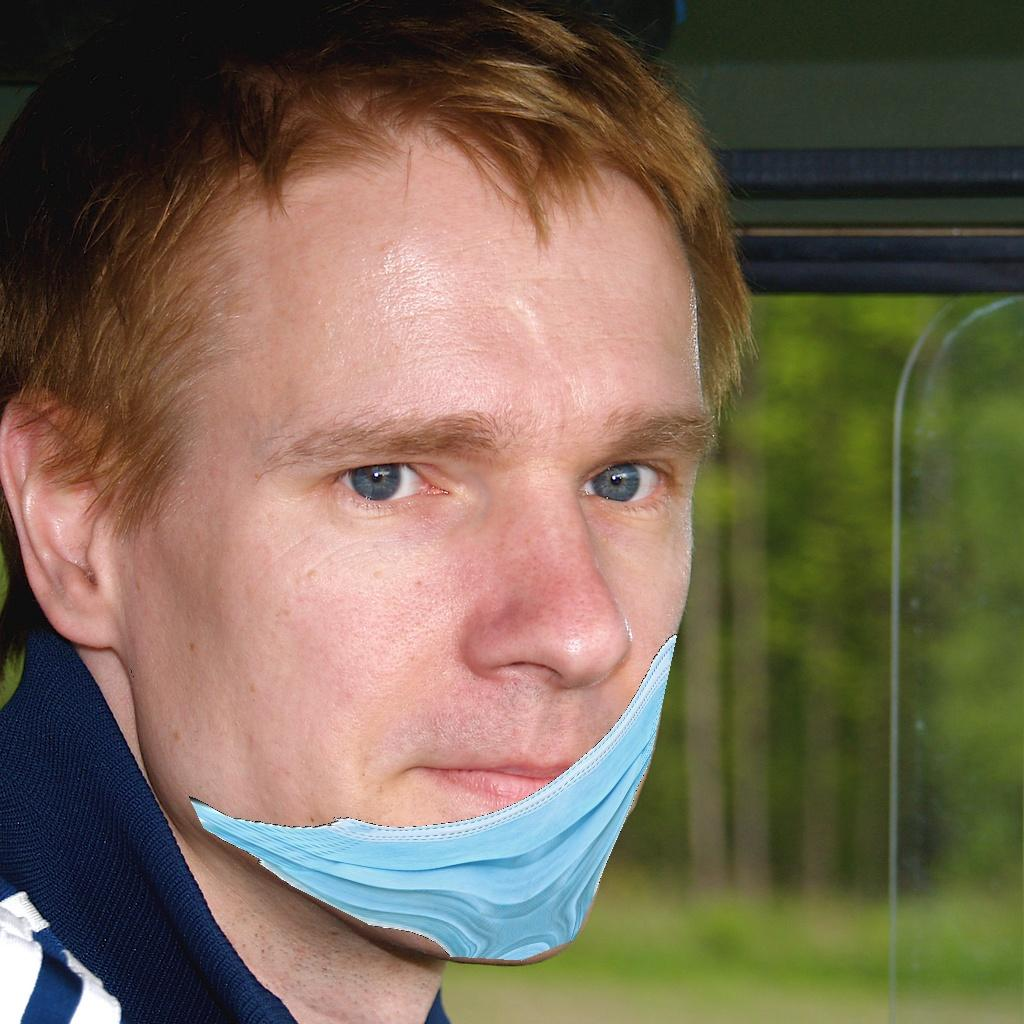Máscara Incorreta: (90, 263, 731, 945)
